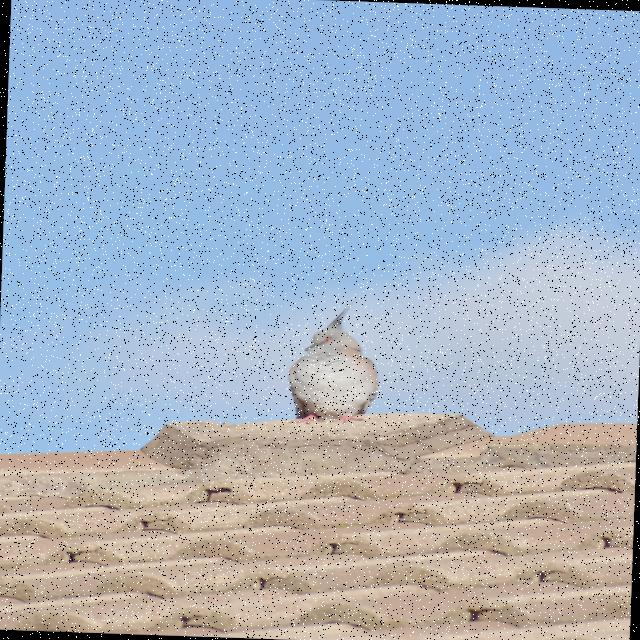bird: (283, 294, 383, 427)
